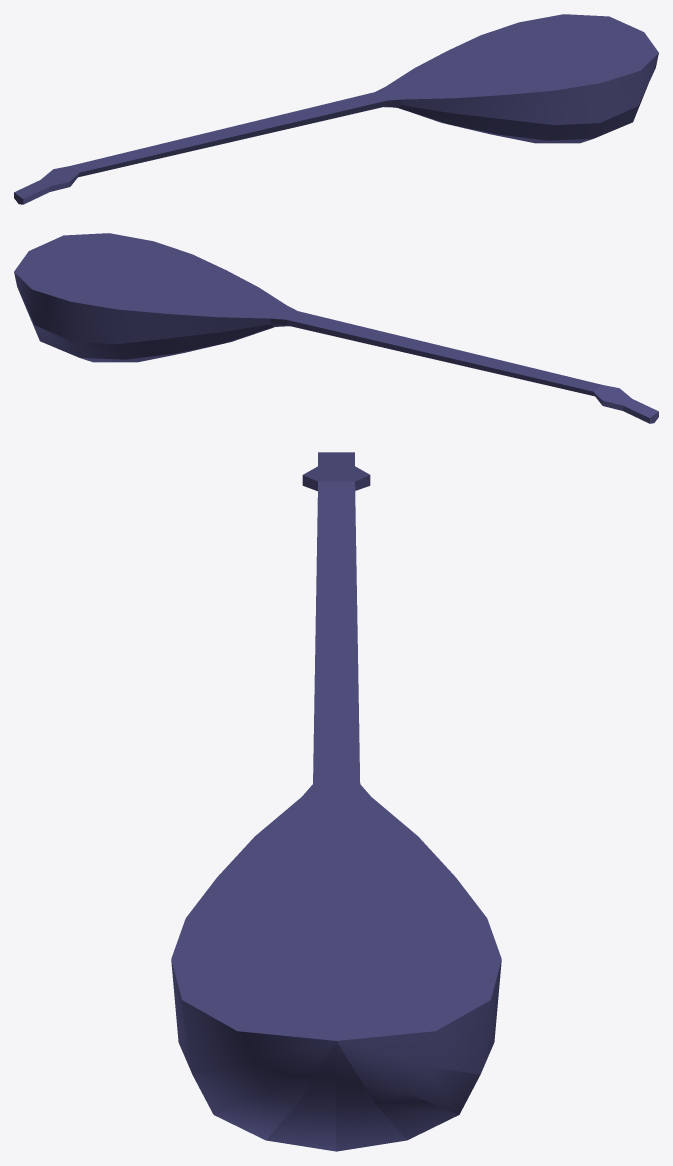
Rendered from dombyra.fbx.
The picture shows the model from 3 angles, top to bottom: view 1: azimuth 30°, elevation 25°; view 2: azimuth 150°, elevation 25°; view 3: azimuth 270°, elevation 25°; orthographic projection. The views are drawn at different scales.
Visible parts, largest first — view 1: pCube174; view 2: pCube174; view 3: pCube174.
Part boxes in pixels (<box>): pCube174: <box>14,14,658,204</box>; pCube174: <box>14,233,658,423</box>; pCube174: <box>171,452,501,1151</box>.
Bounding box in the file's own units: 3.14 × 0.406 × 0.7187.
